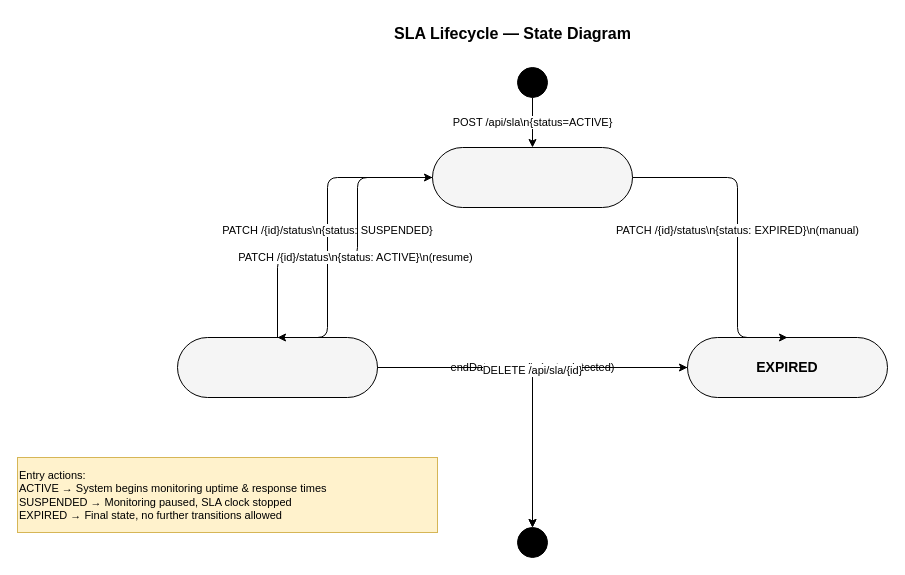
Image size: 905x575. Some labels were removed from this diagram. Here are the shapes that lost their labels. From the top down, the box of each, then its label:
(432, 146, 632, 208): ACTIVE
(176, 336, 378, 398): SUSPENDED
